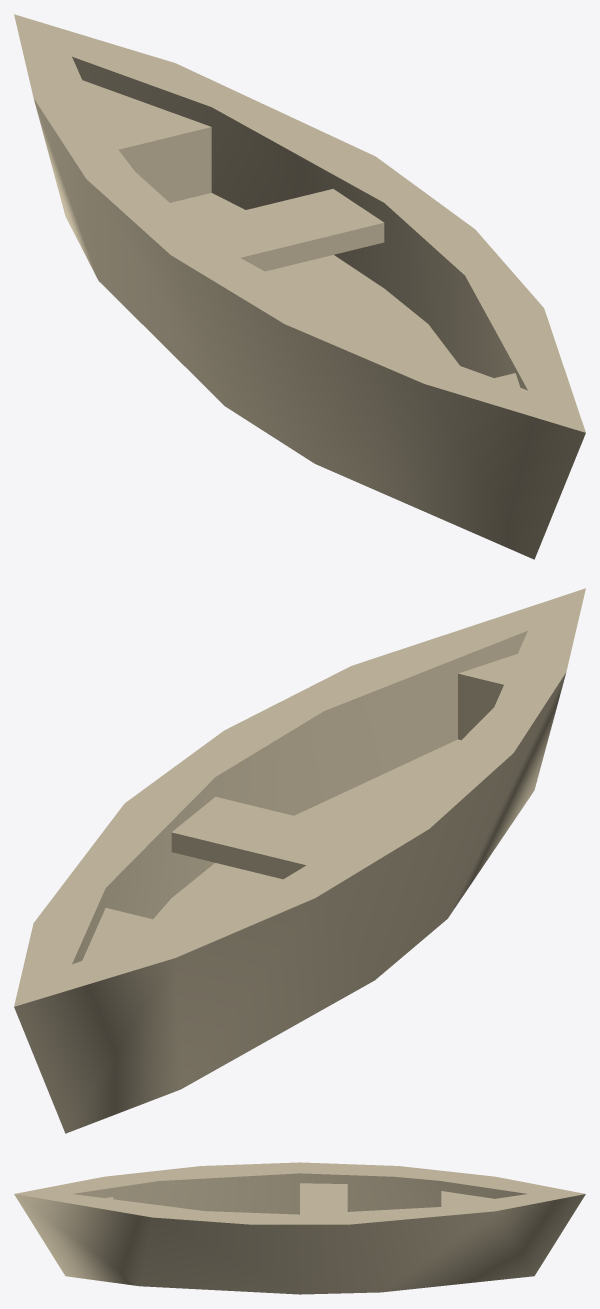
The model's file is cc0-canoe-lod1.glb.
The picture shows the model from 3 angles, top to bottom: view 1: azimuth 30°, elevation 25°; view 2: azimuth 150°, elevation 25°; view 3: azimuth 270°, elevation 25°; orthographic projection. The views are drawn at different scales.
Visible parts, largest first — view 1: part_0; view 2: part_0; view 3: part_0.
Boxes of the visible parts, x1,y1,x2,y2 form: part_0: (14,14,585,559); part_0: (14,588,585,1133); part_0: (14,1162,585,1294).
Size of the model in its own units: 0.2957 by 0.1825 by 1.15.
